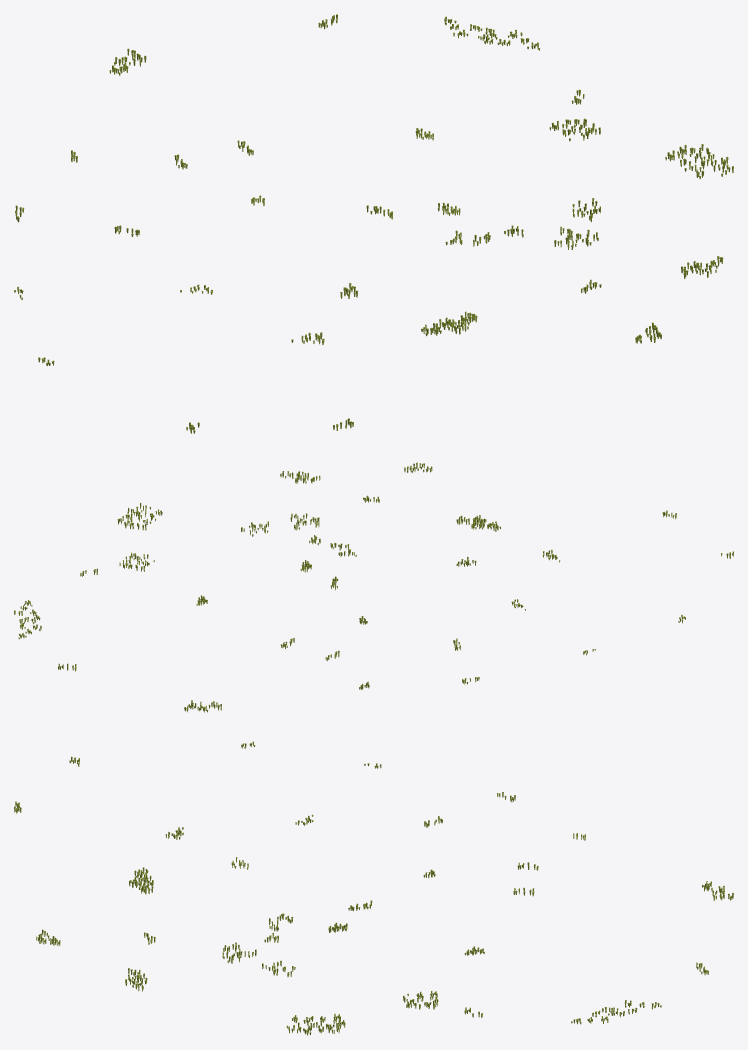
File: Grass.fbx
3 renders of one model, top to bottom at view 1: azimuth 30°, elevation 25°; view 2: azimuth 150°, elevation 25°; view 3: azimuth 270°, elevation 25°, orthographic. The views are drawn at different scales.
Visible parts, largest first — view 1: Grass; view 2: Grass; view 3: Grass.
Boxes of the visible parts, x1,y1,x2,y2 form: Grass: [14, 14, 733, 433]; Grass: [14, 462, 733, 712]; Grass: [14, 741, 733, 1035].
Size of the model in its own units: 7485 by 93.58 by 7872.
